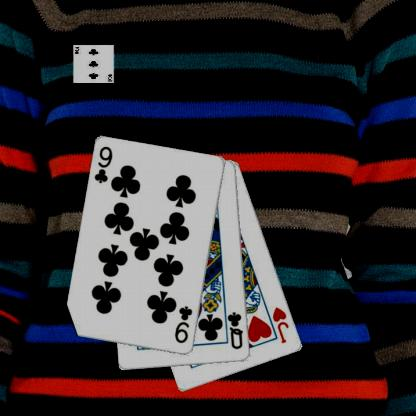9C: (92, 144, 114, 185), (173, 303, 194, 345)
JH: (270, 304, 291, 344)
QC: (225, 310, 244, 350)
